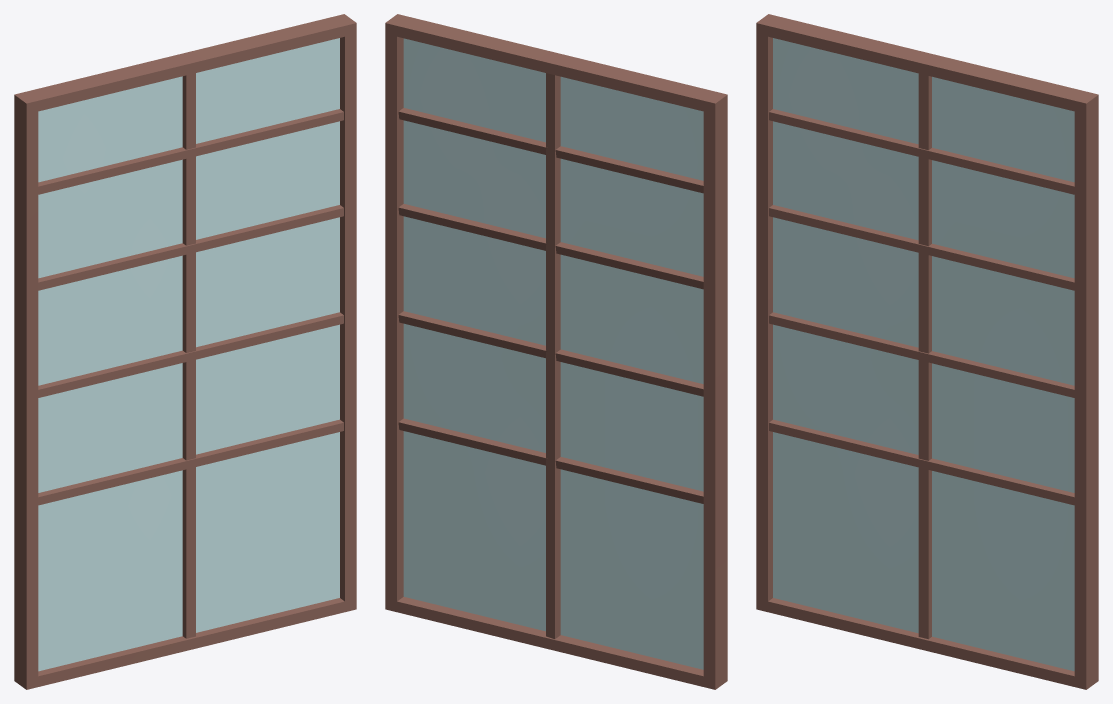
The model's file is window_031.fbx.
3 renders of one model, left to right at view 1: azimuth 30°, elevation 25°; view 2: azimuth 150°, elevation 25°; view 3: azimuth 330°, elevation 25°, orthographic.
Visible parts, largest first — view 1: window_031; view 2: window_031; view 3: window_031.
Boxes of the visible parts, bbox=[...] form: window_031: bbox=[14, 14, 356, 689]; window_031: bbox=[385, 14, 727, 689]; window_031: bbox=[756, 14, 1098, 689].
Size of the model in its own units: 192 by 12.39 by 325.
